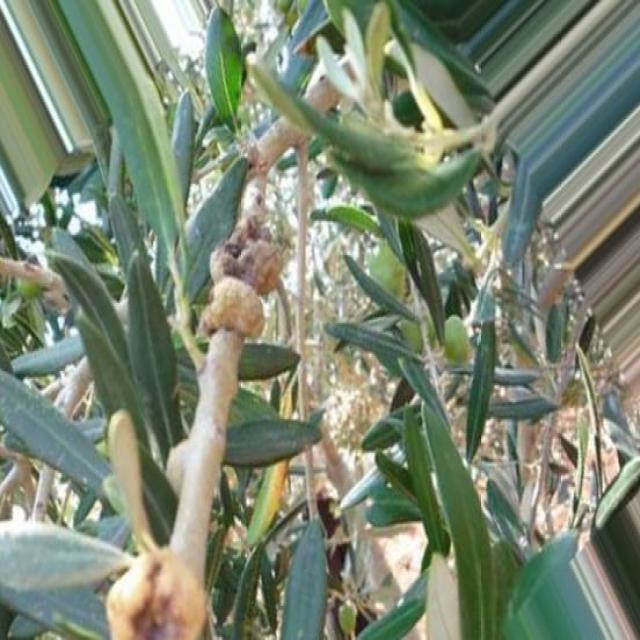Tuberculosis: (200, 210, 282, 337), (106, 554, 206, 638)
